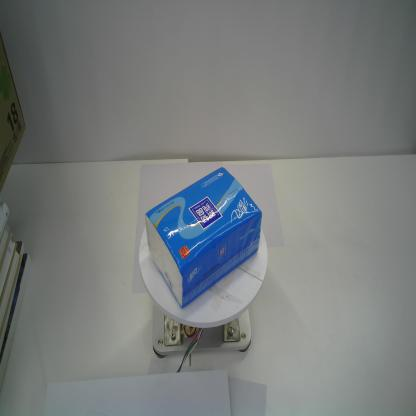Tissue: (144, 167, 262, 310)
